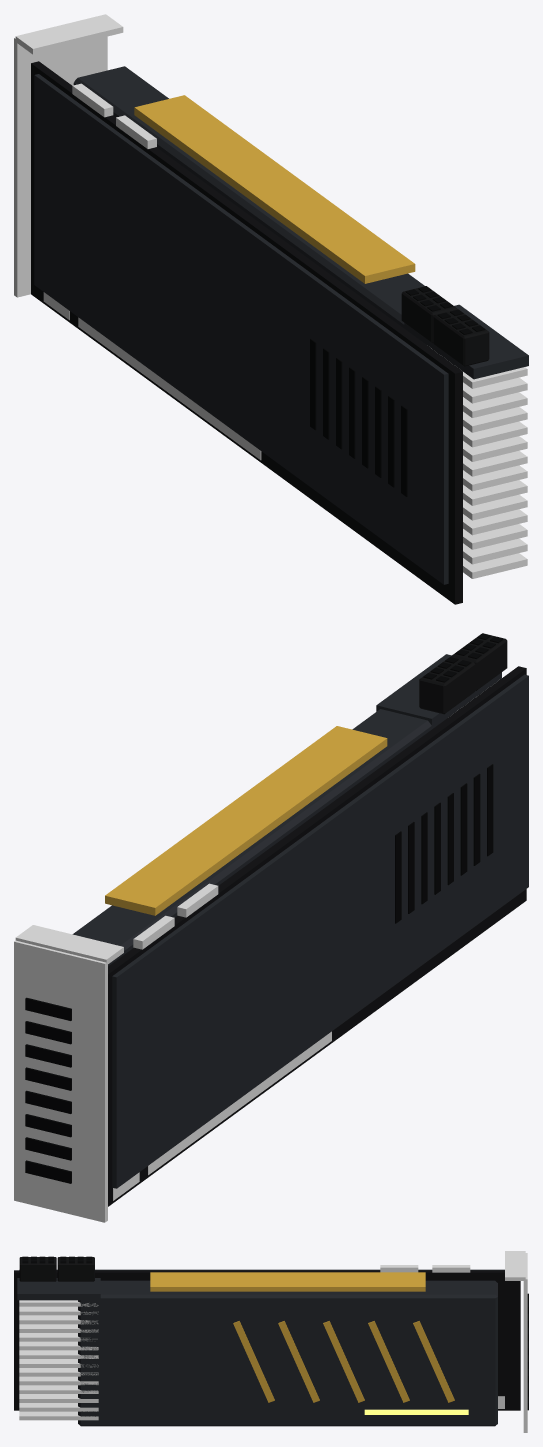
File: hw_gpu_h100_pcie.glb
3 renders of one model, top to bottom at view 1: azimuth 30°, elevation 25°; view 2: azimuth 150°, elevation 25°; view 3: azimuth 270°, elevation 25°, orthographic. The views are drawn at different scales.
Parts seen in each view (by area): view 1: Body; view 2: Body; view 3: Body.
Part boxes in pixels (box(x1,y1,x2,y2)): Body: box(14, 14, 528, 604); Body: box(14, 633, 528, 1222); Body: box(14, 1251, 528, 1432).
Bounding box in the file's own units: 0.0361 × 0.1006 × 0.2977.
